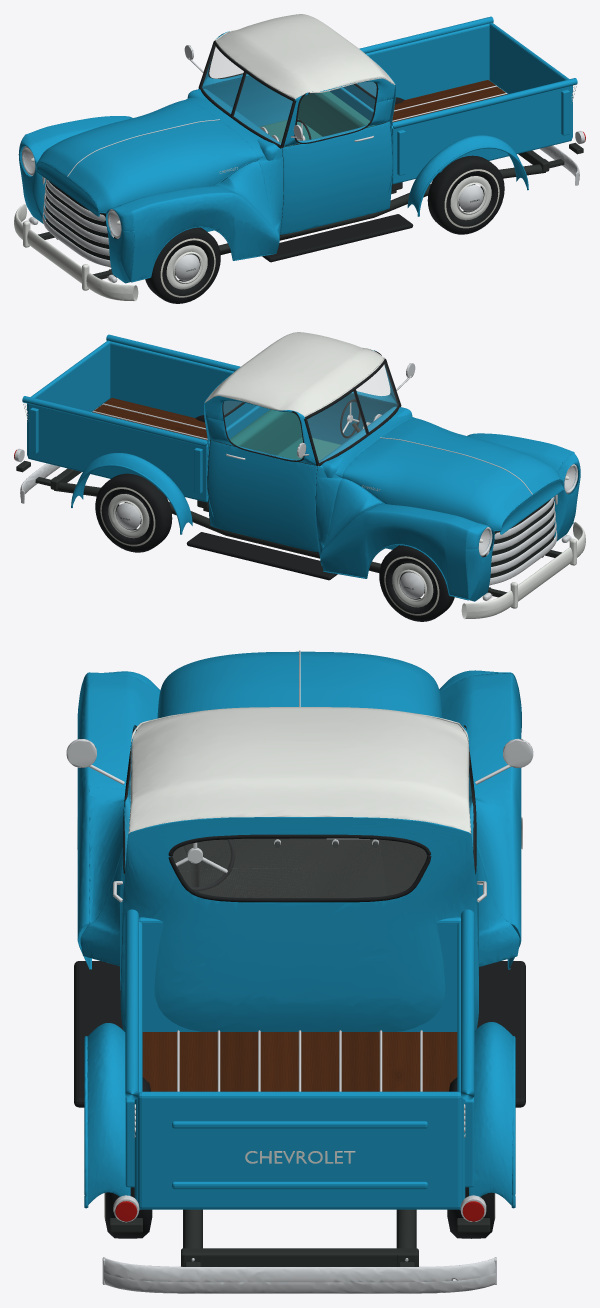
File: pickup_3100-lod1.glb
The picture shows the model from 3 angles, top to bottom: view 1: azimuth 30°, elevation 25°; view 2: azimuth 150°, elevation 25°; view 3: azimuth 270°, elevation 25°; orthographic projection. The views are drawn at different scales.
Visible parts, largest first — view 1: pickup_3100_static_C3100_Paint_Turquoise, pickup_3100_hoodHingeAuthored_<bpy id property array [3]>_C3, pickup_3100_doorSide_right_C3100_Paint_Turquoise, pickup_3100_static_C3100_RoofIvory, pickup_3100_static_C3100_Chrome, pickup_3100_static_C3100_Glass, pickup_3100_static_C3100_Rubber, pickup_3100_wheelId_rearRight_C3100_Rubber, pickup_3100_static_C3100_Upholstery_Turquoise, pickup_3100_wheelId_frontRight_C3100_Rubber, pickup_3100_doorSide_left_C3100_Paint_Turquoise, pickup_3100_static_C3100_ReferenceIvoryEnamel (+10 smaller); view 2: pickup_3100_static_C3100_Paint_Turquoise, pickup_3100_hoodHingeAuthored_<bpy id property array [3]>_C3, pickup_3100_doorSide_left_C3100_Paint_Turquoise, pickup_3100_static_C3100_RoofIvory, pickup_3100_static_C3100_Chrome, pickup_3100_static_C3100_Glass, pickup_3100_static_C3100_Rubber, pickup_3100_wheelId_rearLeft_C3100_Rubber, pickup_3100_static_C3100_Upholstery_Turquoise, pickup_3100_wheelId_frontLeft_C3100_Rubber, pickup_3100_static_C3100_ReferenceIvoryEnamel, pickup_3100_doorSide_right_C3100_Paint_Turquoise (+10 smaller); view 3: pickup_3100_static_C3100_Paint_Turquoise, pickup_3100_static_C3100_RoofIvory, pickup_3100_static_C3100_UnderbodyBlackened, pickup_3100_static_C3100_BedOak, pickup_3100_static_C3100_Chrome, pickup_3100_hoodHingeAuthored_<bpy id property array [3]>_C3, pickup_3100_static_C3100_Glass, pickup_3100_static_C3100_Rubber, pickup_3100_wheelId_rearRight_C3100_Rubber, pickup_3100_wheelId_rearLeft_C3100_Rubber.
Part boxes in pixels (box(x1,y1,x2,y2)): pickup_3100_static_C3100_Paint_Turquoise: box(18, 16, 577, 283); pickup_3100_hoodHingeAuthored_<bpy id property array [3]>_C3: box(36, 100, 257, 216); pickup_3100_doorSide_right_C3100_Paint_Turquoise: box(280, 121, 392, 234); pickup_3100_static_C3100_RoofIvory: box(30, 14, 395, 224); pickup_3100_static_C3100_Chrome: box(22, 45, 585, 282); pickup_3100_static_C3100_Glass: box(201, 46, 376, 144); pickup_3100_static_C3100_Rubber: box(198, 32, 413, 262); pickup_3100_wheelId_rearRight_C3100_Rubber: box(427, 155, 504, 234); pickup_3100_static_C3100_Upholstery_Turquoise: box(259, 91, 375, 146); pickup_3100_wheelId_frontRight_C3100_Rubber: box(145, 227, 220, 303); pickup_3100_doorSide_left_C3100_Paint_Turquoise: box(202, 76, 292, 126); pickup_3100_static_C3100_ReferenceIvoryEnamel: box(14, 204, 138, 301); pickup_3100_static_C3100_Paint_Turquoise: box(22, 334, 580, 601); pickup_3100_hoodHingeAuthored_<bpy id property array [3]>_C3: box(342, 418, 563, 534); pickup_3100_doorSide_left_C3100_Paint_Turquoise: box(208, 440, 319, 552); pickup_3100_static_C3100_RoofIvory: box(204, 332, 569, 542); pickup_3100_static_C3100_Chrome: box(14, 363, 577, 600); pickup_3100_static_C3100_Glass: box(223, 364, 398, 462); pickup_3100_static_C3100_Rubber: box(186, 350, 401, 580); pickup_3100_wheelId_rearLeft_C3100_Rubber: box(95, 473, 172, 552); pickup_3100_static_C3100_Upholstery_Turquoise: box(229, 409, 340, 461); pickup_3100_wheelId_frontLeft_C3100_Rubber: box(379, 545, 454, 621); pickup_3100_static_C3100_ReferenceIvoryEnamel: box(461, 522, 585, 619); pickup_3100_doorSide_right_C3100_Paint_Turquoise: box(307, 393, 397, 444); pickup_3100_static_C3100_Paint_Turquoise: box(77, 670, 521, 1209); pickup_3100_static_C3100_RoofIvory: box(128, 707, 471, 1163); pickup_3100_static_C3100_UnderbodyBlackened: box(109, 838, 490, 1266); pickup_3100_static_C3100_BedOak: box(142, 1032, 457, 1091); pickup_3100_static_C3100_Chrome: box(66, 738, 533, 1293); pickup_3100_hoodHingeAuthored_<bpy id property array [3]>_C3: box(157, 651, 442, 718); pickup_3100_static_C3100_Glass: box(69, 743, 530, 897); pickup_3100_static_C3100_Rubber: box(74, 725, 525, 1107); pickup_3100_wheelId_rearRight_C3100_Rubber: box(105, 1077, 152, 1238); pickup_3100_wheelId_rearLeft_C3100_Rubber: box(447, 1077, 494, 1238).
Bounding box in the file's own units: 2.02 × 0.7488 × 0.839.
15 materials, 1 textured.
